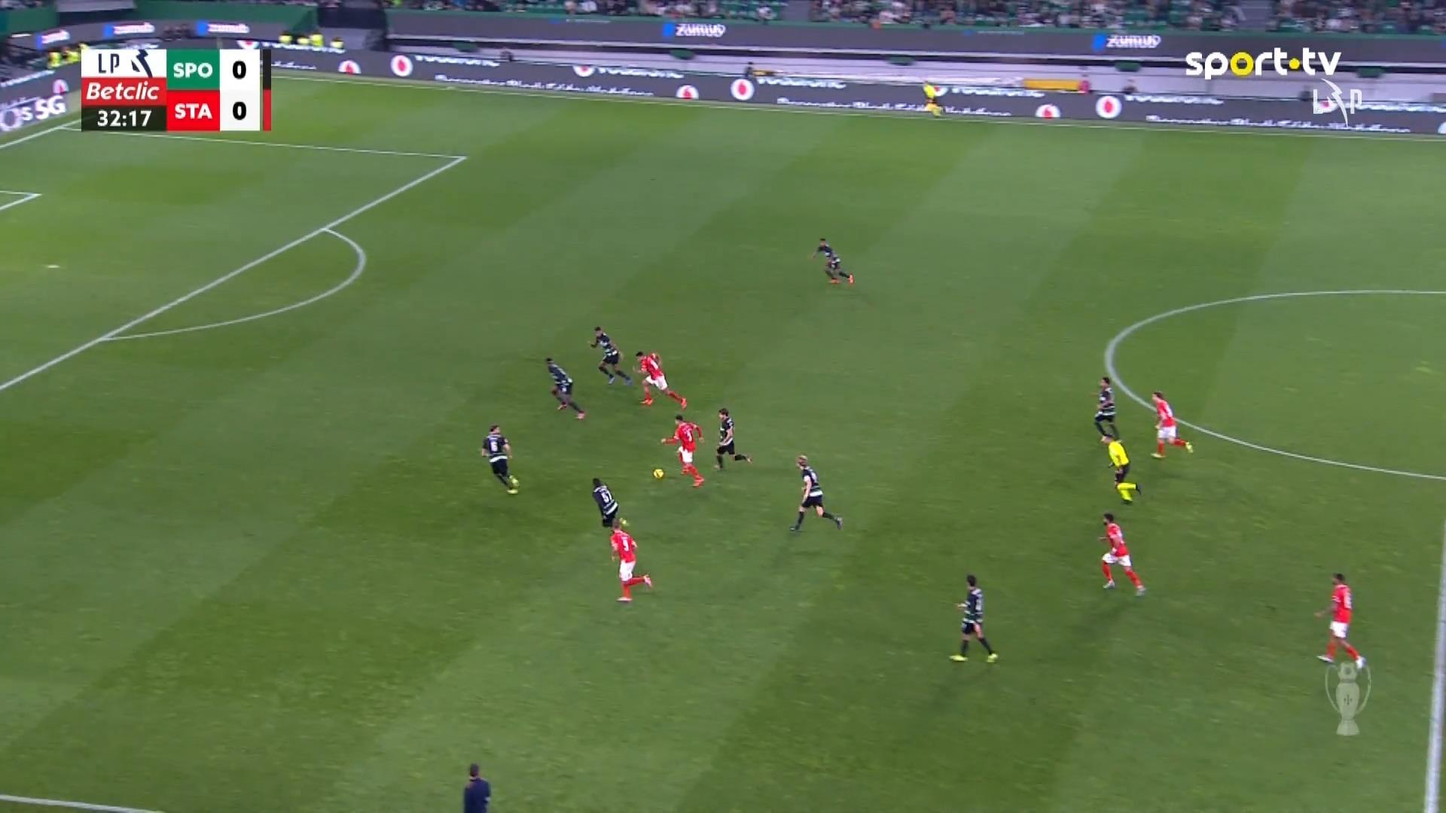ball: (652, 467, 664, 479)
player: (1313, 571, 1367, 671), (949, 573, 998, 662), (789, 452, 843, 531), (1097, 511, 1146, 596), (609, 516, 653, 601), (660, 413, 705, 488), (632, 349, 688, 409), (1149, 390, 1193, 458), (479, 424, 519, 495), (587, 325, 633, 386), (712, 406, 752, 472), (544, 355, 585, 419), (810, 236, 854, 286), (1093, 375, 1119, 442), (590, 476, 620, 530)
referee: (1100, 432, 1142, 504), (462, 762, 491, 811), (920, 79, 944, 115)
